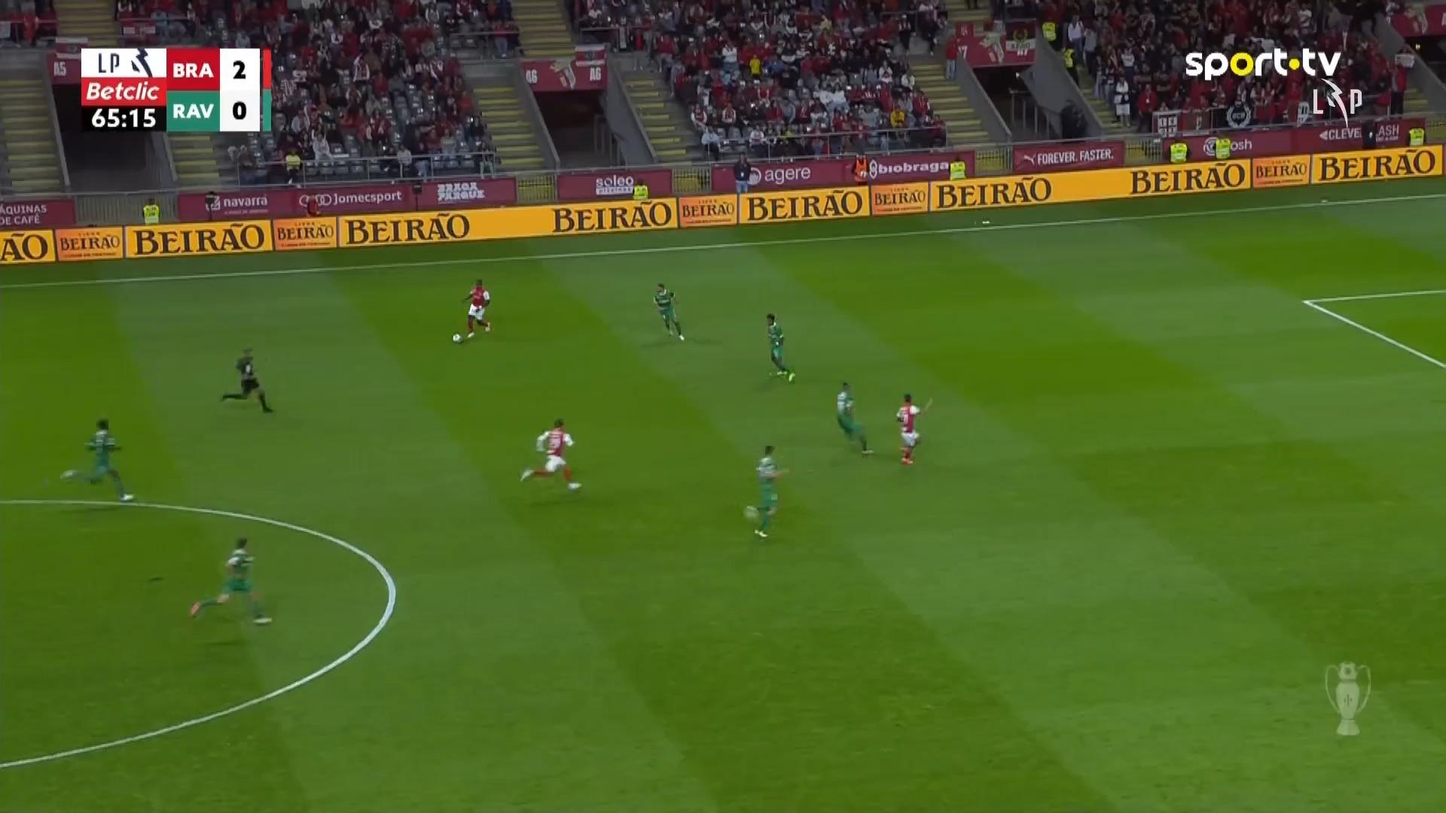ball: (452, 333, 461, 343)
player: (188, 535, 273, 625), (59, 417, 135, 502), (519, 418, 581, 490), (749, 443, 789, 537), (835, 380, 874, 455), (764, 312, 795, 382), (895, 392, 922, 464), (653, 282, 685, 341), (461, 278, 491, 338)
referee: (220, 347, 273, 413)
